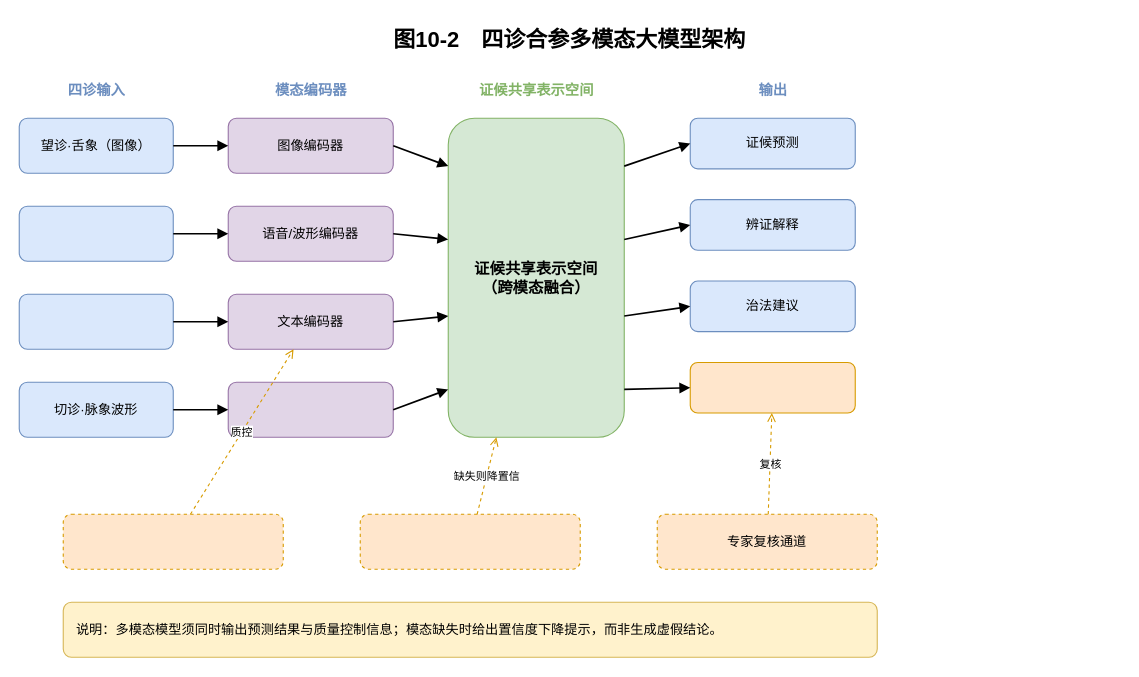
The diagram is 1139 pixels wide and 677 high, and some of its shapes have lost their labels. Here are the shapes that lost their labels. From the top down, the box of each, then its label:
(18, 205, 173, 261): 闻诊·语音/气味
(18, 293, 173, 349): 问诊·症状文本
(689, 361, 855, 413): 不确定性输出
(227, 381, 393, 437): 脉象编码器
(62, 513, 283, 569): 数据质量控制
(359, 513, 580, 569): 模态缺失提示
